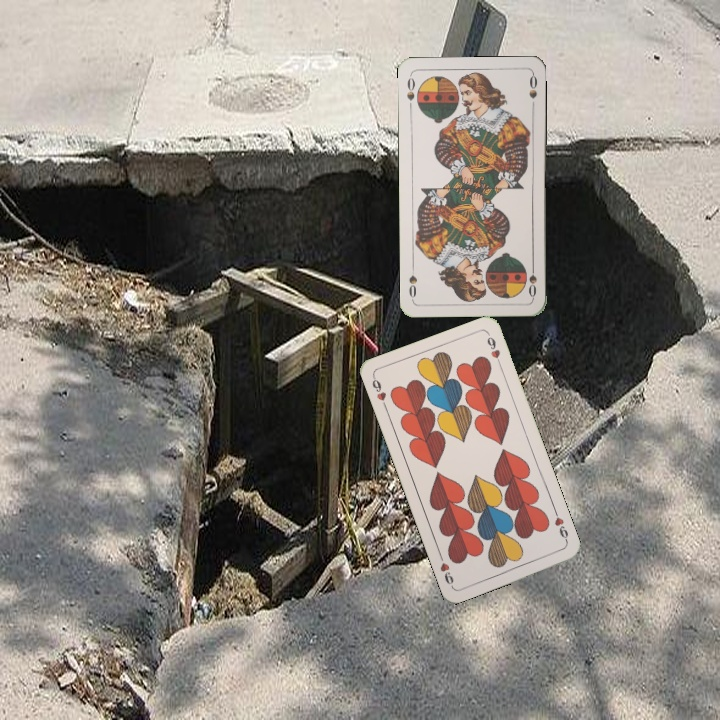H9: (368, 373, 390, 412), (550, 506, 571, 546)
SO: (524, 259, 539, 300), (403, 72, 417, 113)
